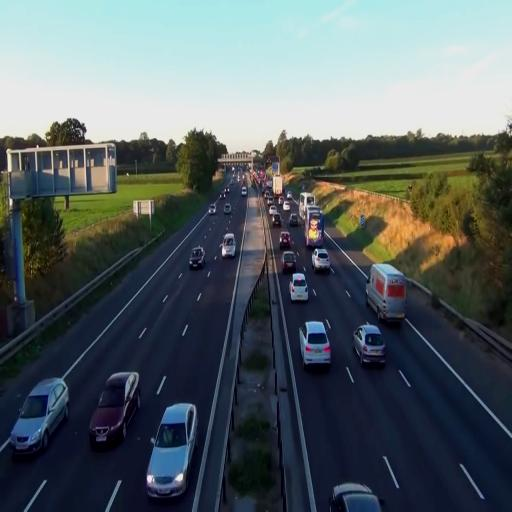vehicle: (146, 402, 198, 499), (11, 377, 69, 457), (88, 370, 141, 449), (366, 260, 407, 326), (367, 262, 406, 325), (330, 483, 383, 512), (299, 320, 331, 368), (353, 324, 387, 366), (305, 205, 324, 248), (290, 272, 310, 304), (312, 248, 330, 275), (280, 250, 298, 274), (189, 246, 205, 270), (221, 233, 236, 258), (268, 208, 280, 226)
